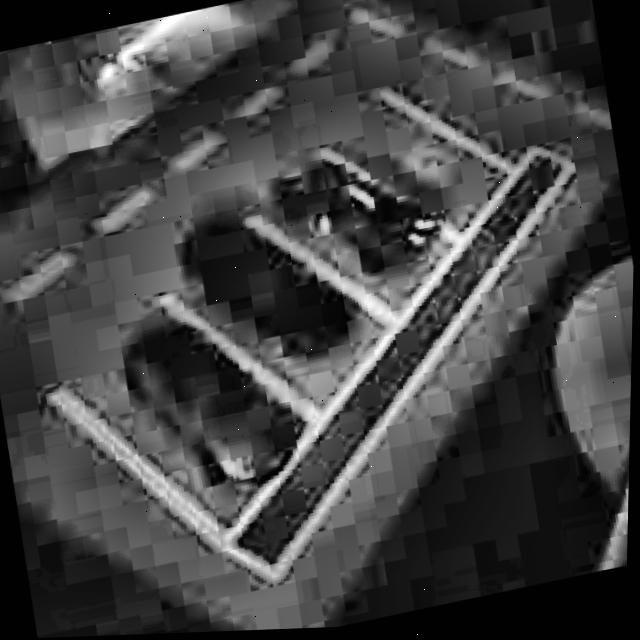car: (98, 286, 321, 530), (146, 175, 367, 384), (254, 125, 454, 316)
